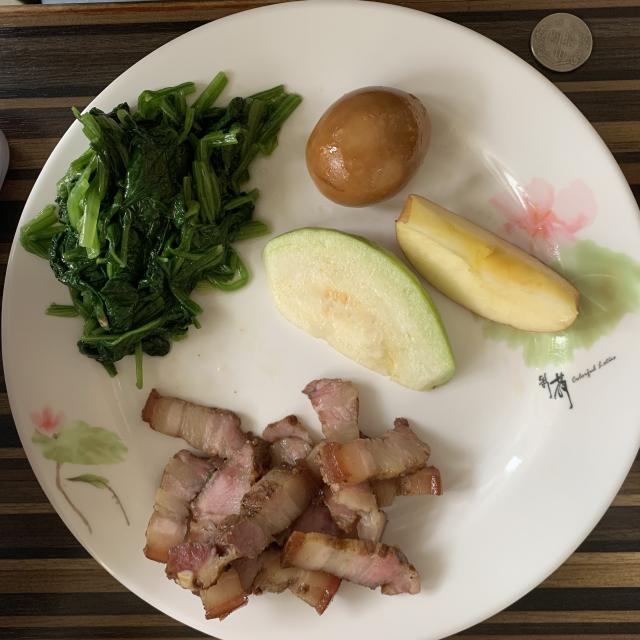apple -sliced-: (396, 194, 579, 331)
coin: (531, 12, 592, 72)
grilled pork: (142, 379, 441, 619)
guava -sliced-: (262, 228, 455, 391)
mustard greens: (20, 72, 301, 388)
soy egg: (305, 86, 431, 208)
